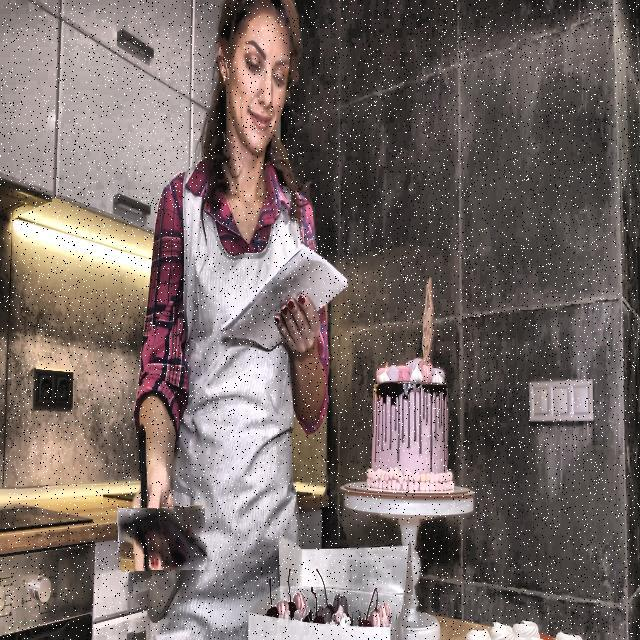Phone: (117, 506, 206, 572)
